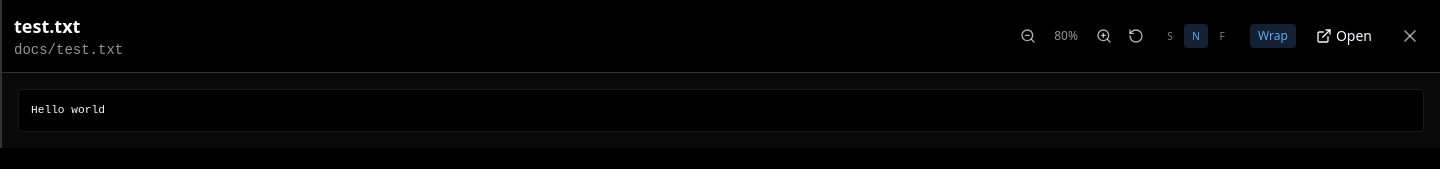
Test: PreviewPanel zoom controls › reset zoom button restores to default (80%)
Step 1. Click the button named "Zoom in" → (1104, 36), box top-left (1090, 22), bottom-right (1118, 50)
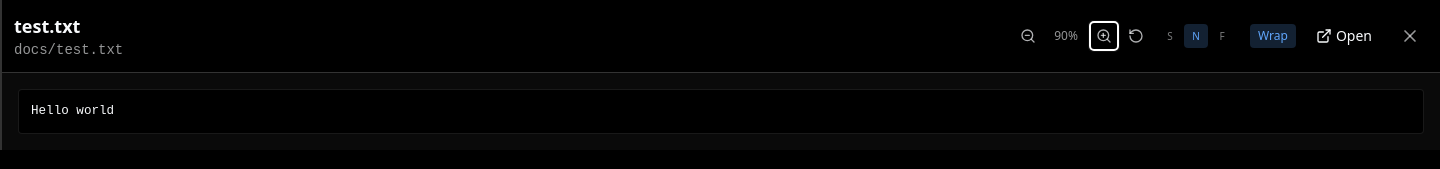
Step 2. Click the button named "Zoom in" → (1104, 36), box top-left (1090, 22), bottom-right (1118, 50)
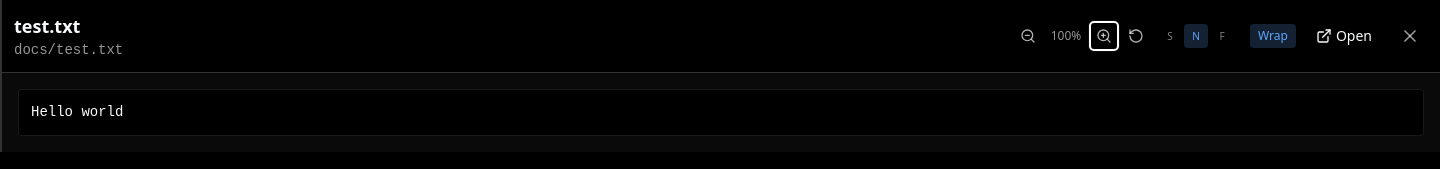
Check: the text "100%" is shown, box top-left (1051, 27), bottom-right (1081, 44)
Step 3. Click the button named "Reset zoom" → (1136, 36), box top-left (1122, 22), bottom-right (1150, 50)
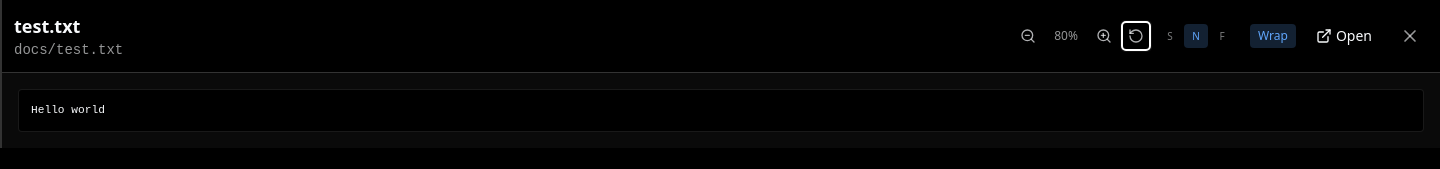
Check: the text "80%" is shown, box top-left (1054, 27), bottom-right (1078, 44)
